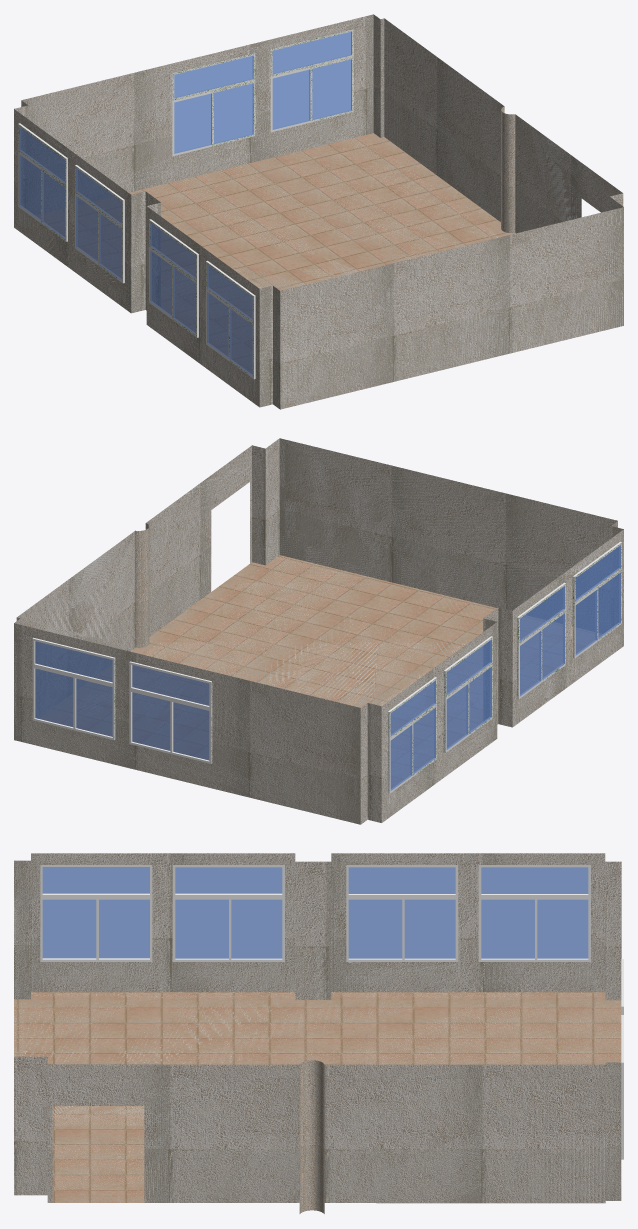
File: AUL030.obj
3 views of the same model, one above another, from view 1: azimuth 30°, elevation 25°; view 2: azimuth 150°, elevation 25°; view 3: azimuth 270°, elevation 25° (orthographic). The views are drawn at different scales.
Parts seen in each view (by area): view 1: Mesh37 AUL030 Model, Mesh1 ventana1_1 AUL030 Model, Mesh31 ventana1_6 AUL030 Model, Mesh13 ventana1_3 AUL030 Model, Mesh19 ventana1_4 AUL030 Model, Mesh25 ventana1_5 AUL030 Model, Mesh7 ventana1_2 AUL030 Model; view 2: Mesh37 AUL030 Model, Mesh1 ventana1_1 AUL030 Model, Mesh31 ventana1_6 AUL030 Model, Mesh19 ventana1_4 AUL030 Model, Mesh25 ventana1_5 AUL030 Model, Mesh7 ventana1_2 AUL030 Model, Mesh13 ventana1_3 AUL030 Model; view 3: Mesh37 AUL030 Model, Mesh7 ventana1_2 AUL030 Model, Mesh13 ventana1_3 AUL030 Model, Mesh19 ventana1_4 AUL030 Model, Mesh25 ventana1_5 AUL030 Model.
Part boxes in pixels (x1,y1,x2,y2): Mesh37 AUL030 Model: [14, 14, 623, 409]; Mesh1 ventana1_1 AUL030 Model: [172, 53, 255, 156]; Mesh31 ventana1_6 AUL030 Model: [270, 29, 353, 132]; Mesh13 ventana1_3 AUL030 Model: [206, 260, 255, 379]; Mesh19 ventana1_4 AUL030 Model: [75, 165, 124, 283]; Mesh25 ventana1_5 AUL030 Model: [18, 123, 67, 241]; Mesh7 ventana1_2 AUL030 Model: [149, 219, 198, 337]; Mesh37 AUL030 Model: [14, 438, 623, 824]; Mesh1 ventana1_1 AUL030 Model: [129, 661, 212, 763]; Mesh31 ventana1_6 AUL030 Model: [32, 637, 115, 740]; Mesh19 ventana1_4 AUL030 Model: [443, 636, 492, 752]; Mesh25 ventana1_5 AUL030 Model: [388, 677, 436, 793]; Mesh7 ventana1_2 AUL030 Model: [517, 582, 565, 699]; Mesh13 ventana1_3 AUL030 Model: [573, 542, 621, 658]; Mesh37 AUL030 Model: [14, 853, 621, 1213]; Mesh7 ventana1_2 AUL030 Model: [172, 865, 284, 961]; Mesh13 ventana1_3 AUL030 Model: [40, 865, 152, 961]; Mesh19 ventana1_4 AUL030 Model: [346, 865, 458, 961]; Mesh25 ventana1_5 AUL030 Model: [478, 865, 590, 961].
Bounding box in the file's own units: 9.85 × 3.25 × 11.96.
7 materials, 3 textured.
